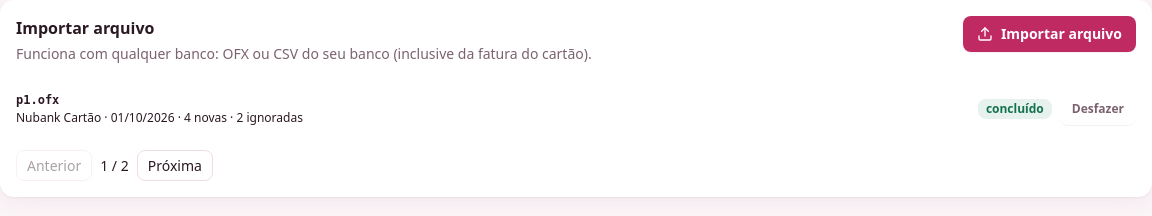
ImportCard › pagina o histórico
Expected: the text "p1.ofx" is shown, [16,93,59,107]
Click the button "Próxima" at x=175, y=166, box [137,150,213,181]
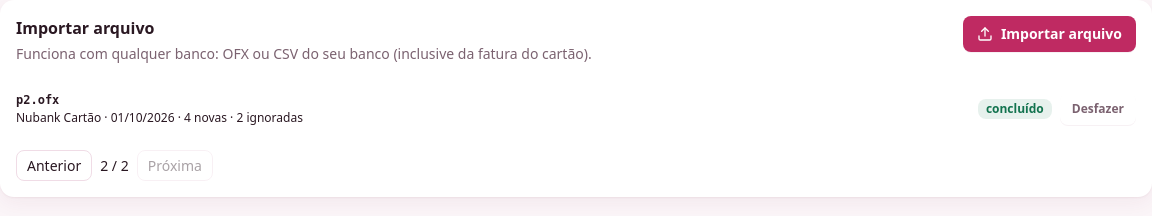
Now the text "p2.ofx" is shown, box [16,93,59,107]
